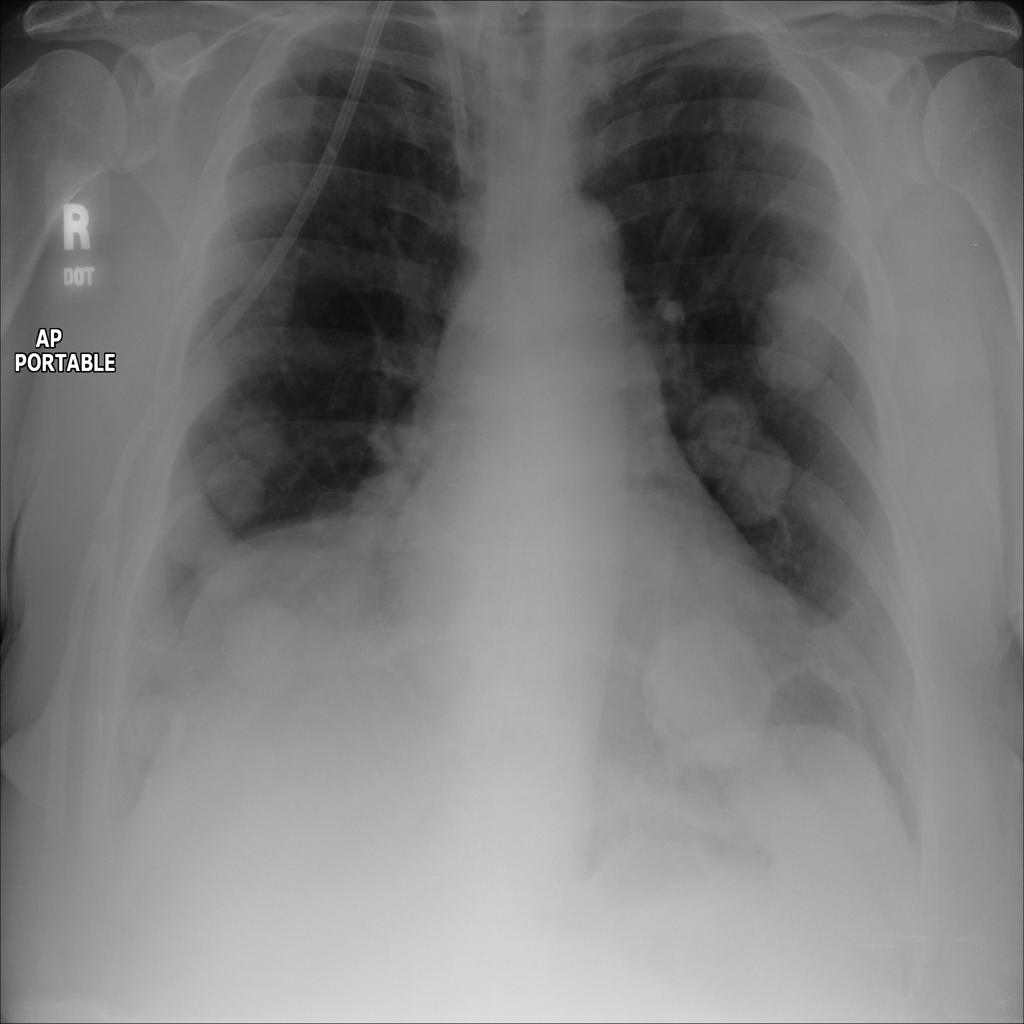nodule: (624, 596, 789, 777), (684, 375, 817, 541), (736, 241, 860, 403), (292, 458, 417, 575), (215, 588, 321, 700), (223, 386, 297, 475), (197, 443, 276, 526), (120, 687, 190, 772), (188, 528, 262, 606), (158, 481, 223, 566), (648, 199, 720, 275)
